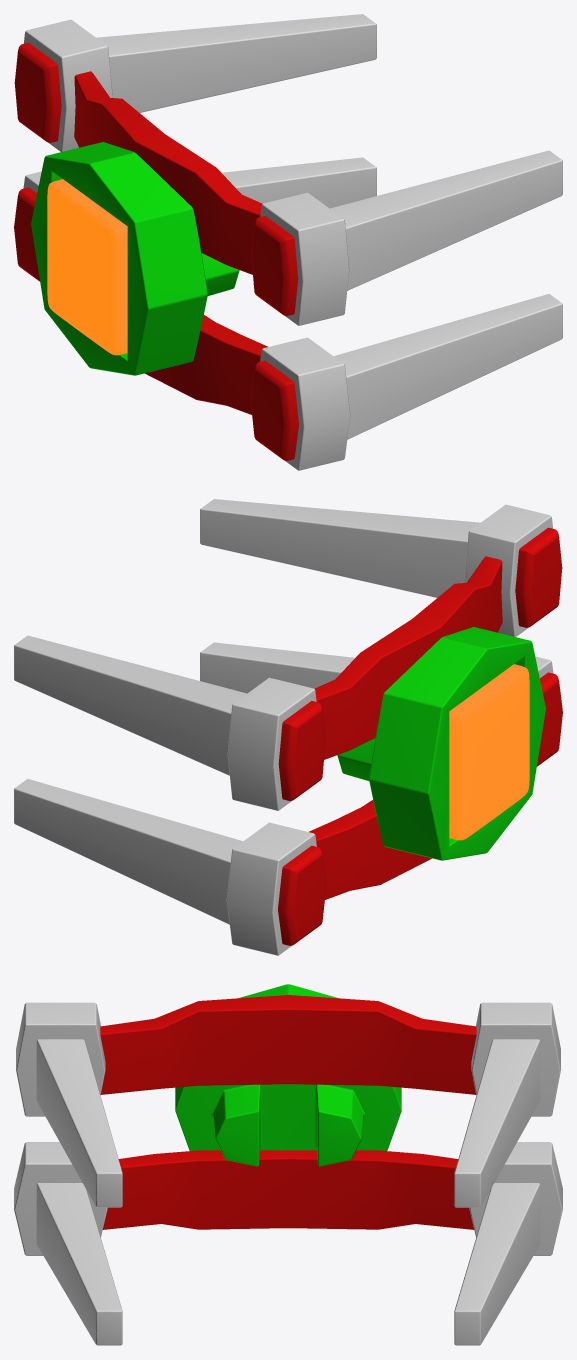
Rendered from SM_ShieldModule_Square.fbx.
3 renders of one model, top to bottom at view 1: azimuth 30°, elevation 25°; view 2: azimuth 150°, elevation 25°; view 3: azimuth 270°, elevation 25°, orthographic. The views are drawn at different scales.
Parts seen in each view (by area): view 1: ShieldModuleSquare, ShieldSquare_Effect; view 2: ShieldModuleSquare, ShieldSquare_Effect; view 3: ShieldModuleSquare.
Part boxes in pixels (x1,y1,x2,y2): ShieldModuleSquare: (14,14,562,470); ShieldSquare_Effect: (47,179,127,355); ShieldModuleSquare: (14,499,562,955); ShieldSquare_Effect: (449,664,529,840); ShieldModuleSquare: (14,984,562,1345).
Bounding box in the file's own units: 10.67 × 13.69 × 6.39.
